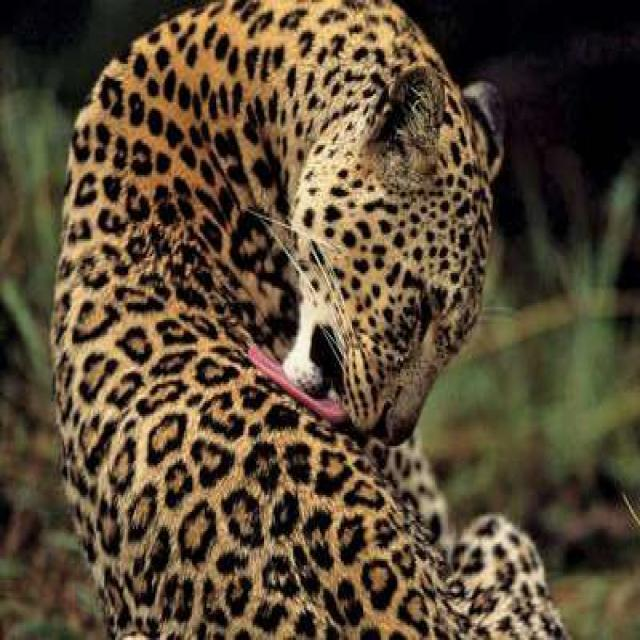leopard: (51, 0, 565, 638)
